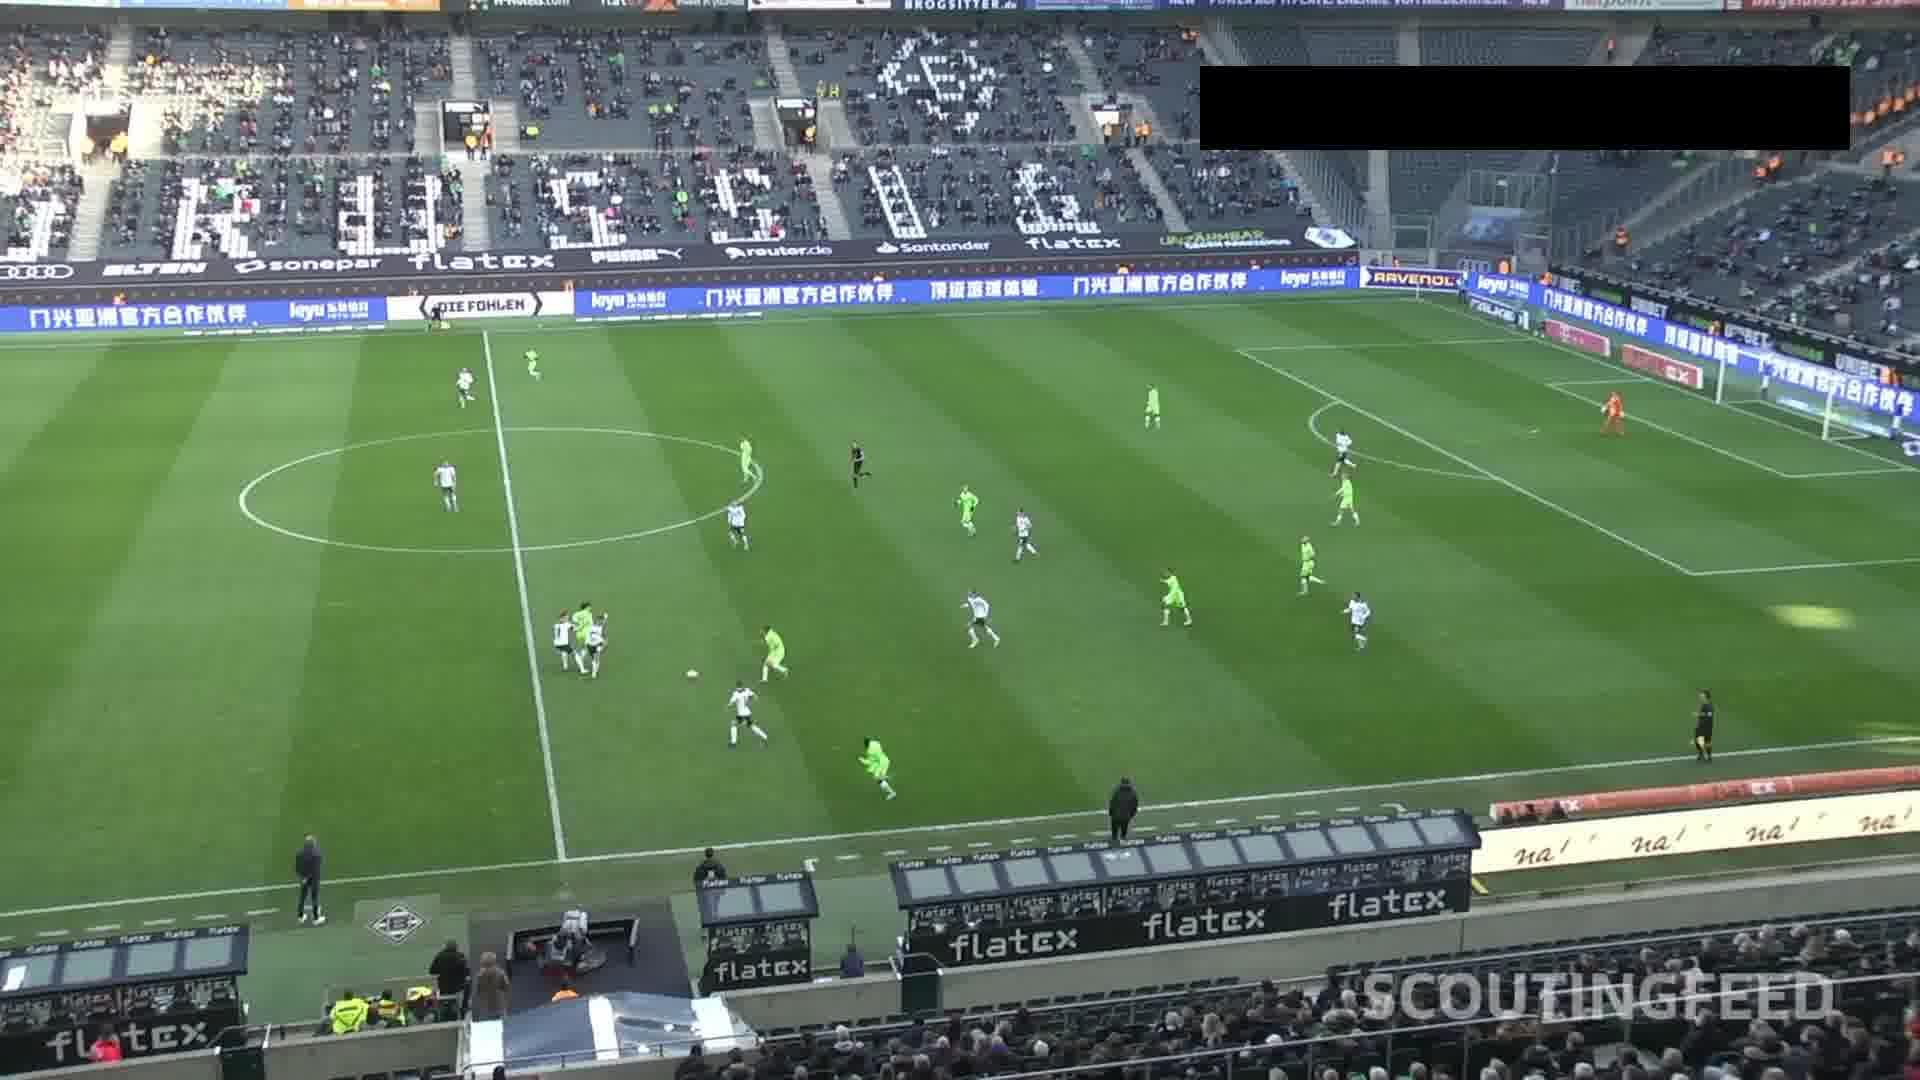football: (683, 669, 700, 680)
